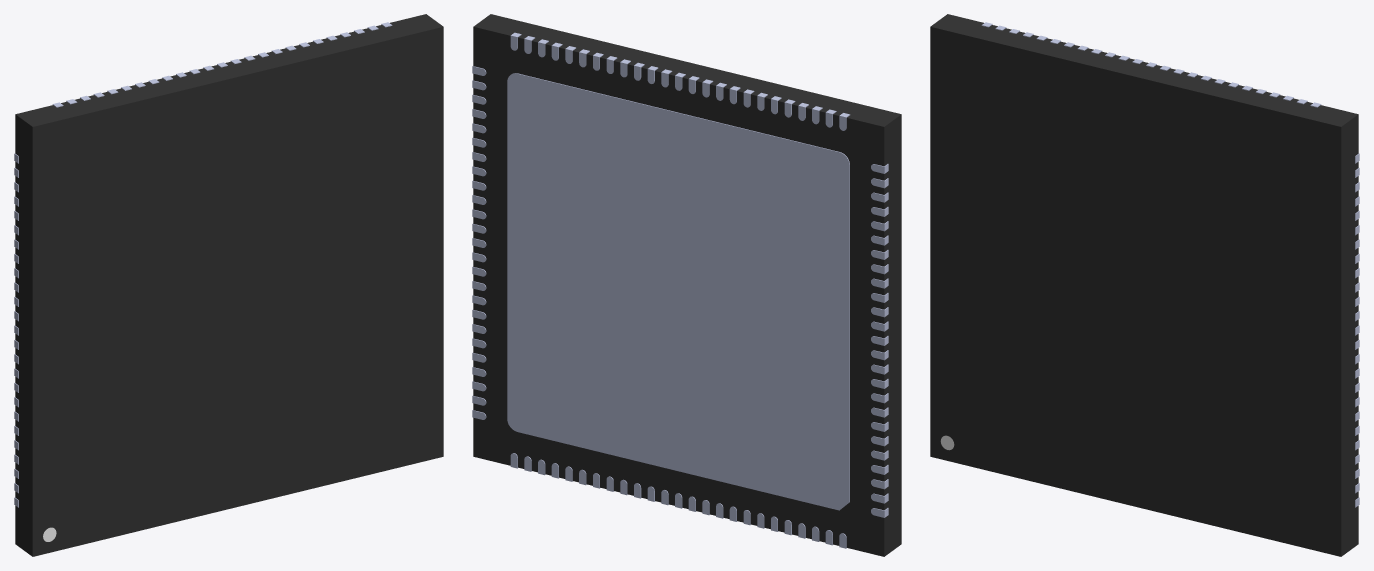
File: QFN100_04-1c18edf7728b.glb
3 renders of one model, left to right at view 1: azimuth 30°, elevation 25°; view 2: azimuth 150°, elevation 25°; view 3: azimuth 330°, elevation 25°, orthographic.
Visible parts, largest first — view 1: material0, material1; view 2: material1, material0; view 3: material0, material1.
Part boxes in pixels (x1,y1,x2,y2): material0: (15, 14, 443, 556); material1: (14, 22, 392, 507); material1: (472, 32, 888, 548); material0: (473, 14, 901, 556); material0: (930, 14, 1358, 556); material1: (981, 22, 1359, 507).
Bounding box in the file's own units: 12.04 × 12.04 × 0.9.
